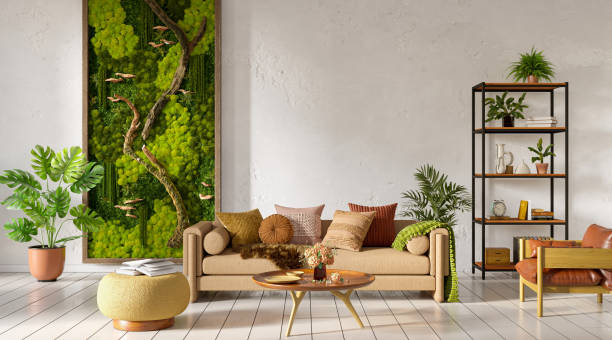chair: (514, 221, 612, 315)
flower vase: (301, 241, 335, 279)
large plant: (1, 142, 106, 284), (405, 162, 470, 223)
small plant: (505, 46, 558, 83), (484, 90, 529, 127), (526, 135, 559, 174)
sofa: (180, 201, 450, 305)
table: (251, 268, 377, 338)
